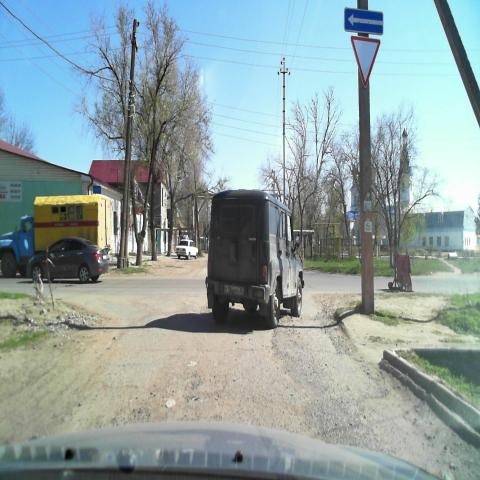5_7_2: (343, 6, 384, 34)
